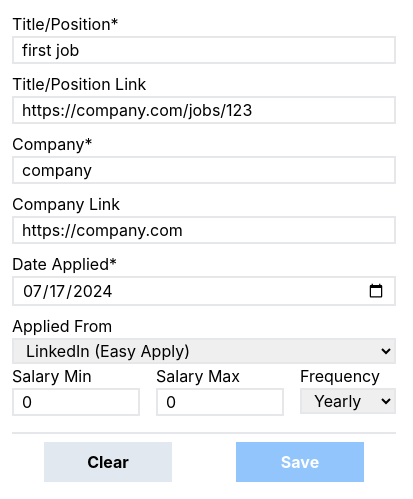
Test: AddJob Component › with job to edit › pressing clear › clears the form
Click the button with test id "buttonClear" at (108, 462), box x1=44 y1=442 x2=172 y2=482
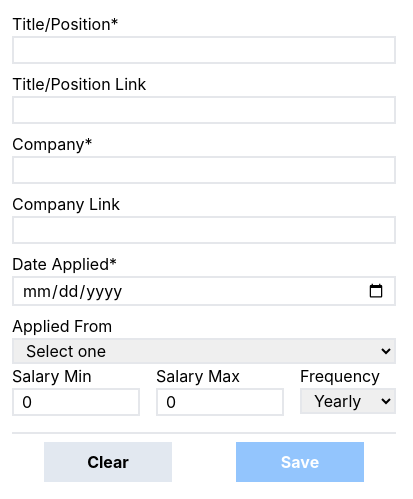
Expected: the field with test id "jobTitle" is empty, x1=12 y1=36 x2=396 y2=64
